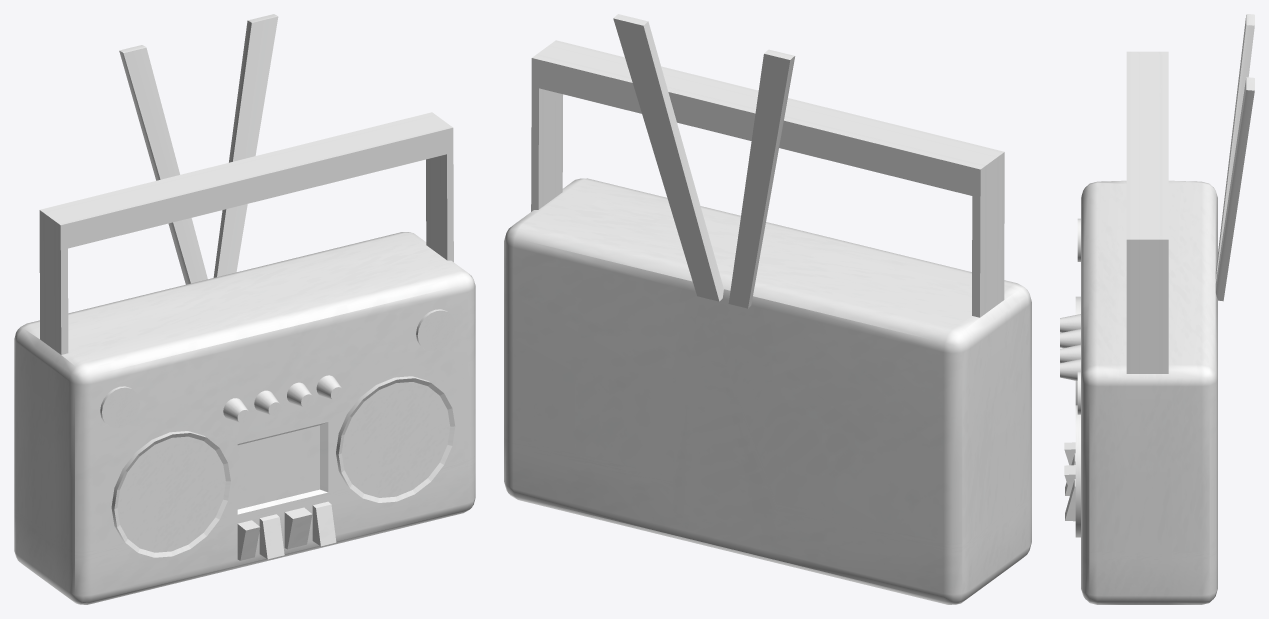
Rendered from radio.fbx.
3 views of the same model, side by side, from view 1: azimuth 30°, elevation 25°; view 2: azimuth 150°, elevation 25°; view 3: azimuth 270°, elevation 25° (orthographic). The views are drawn at different scales.
Parts seen in each view (by area): view 1: radio:polySurface1; view 2: radio:polySurface1; view 3: radio:polySurface1.
Boxes of the visible parts, bbox=[...] form: radio:polySurface1: bbox=[14, 14, 475, 604]; radio:polySurface1: bbox=[504, 14, 1031, 604]; radio:polySurface1: bbox=[1060, 14, 1254, 604].
Size of the model in its own units: 1.07 by 1.18 by 0.4494.
Materials: 1 (1 with a texture image).
